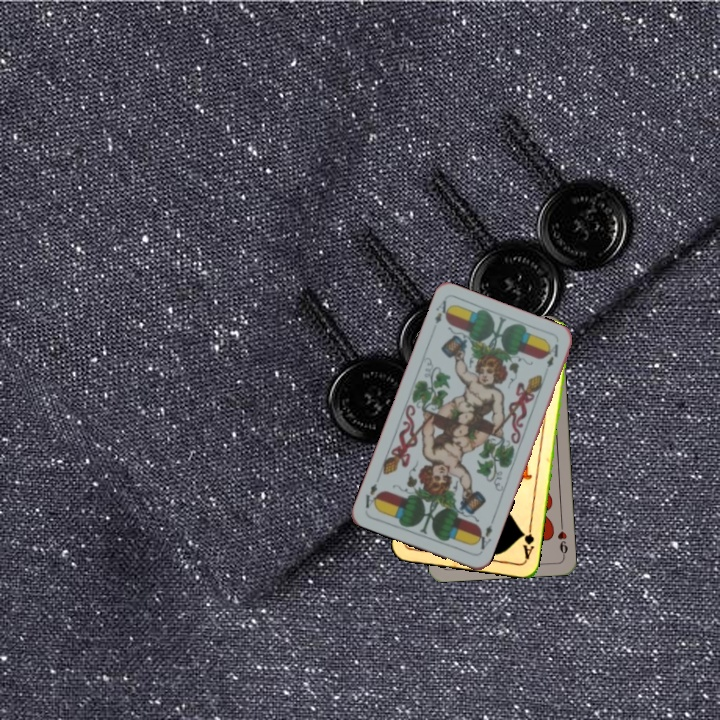EA: (471, 516, 496, 552), (430, 296, 454, 326)
GA: (518, 521, 537, 562)
H9: (554, 518, 570, 559)
